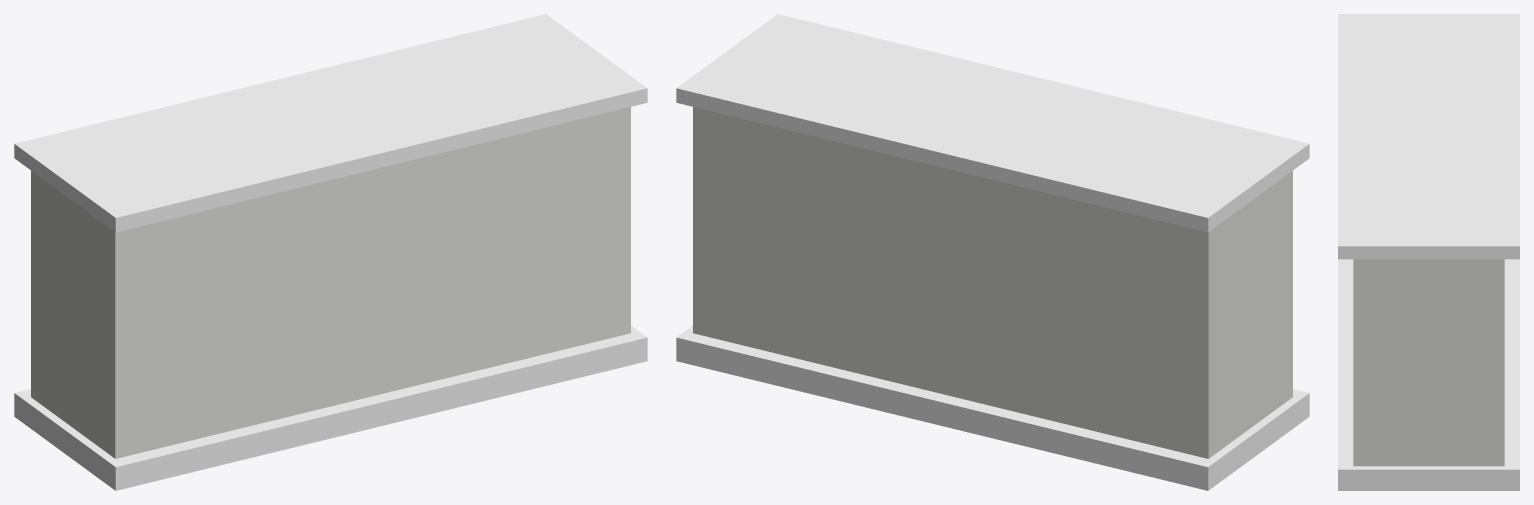
The model's file is Kitchen_Table_1.fbx.
The picture shows the model from 3 angles, left to right: view 1: azimuth 30°, elevation 25°; view 2: azimuth 150°, elevation 25°; view 3: azimuth 270°, elevation 25°; orthographic projection. The views are drawn at different scales.
Visible parts, largest first — view 1: polySurface552; view 2: polySurface552; view 3: polySurface552.
Boxes of the visible parts, x1,y1,x2,y2 form: polySurface552: (14,14,647,490); polySurface552: (676,14,1309,490); polySurface552: (1338,14,1519,490).
Bounding box in the file's own units: 2.3 × 1.13 × 0.76.
1 material, 1 textured.
